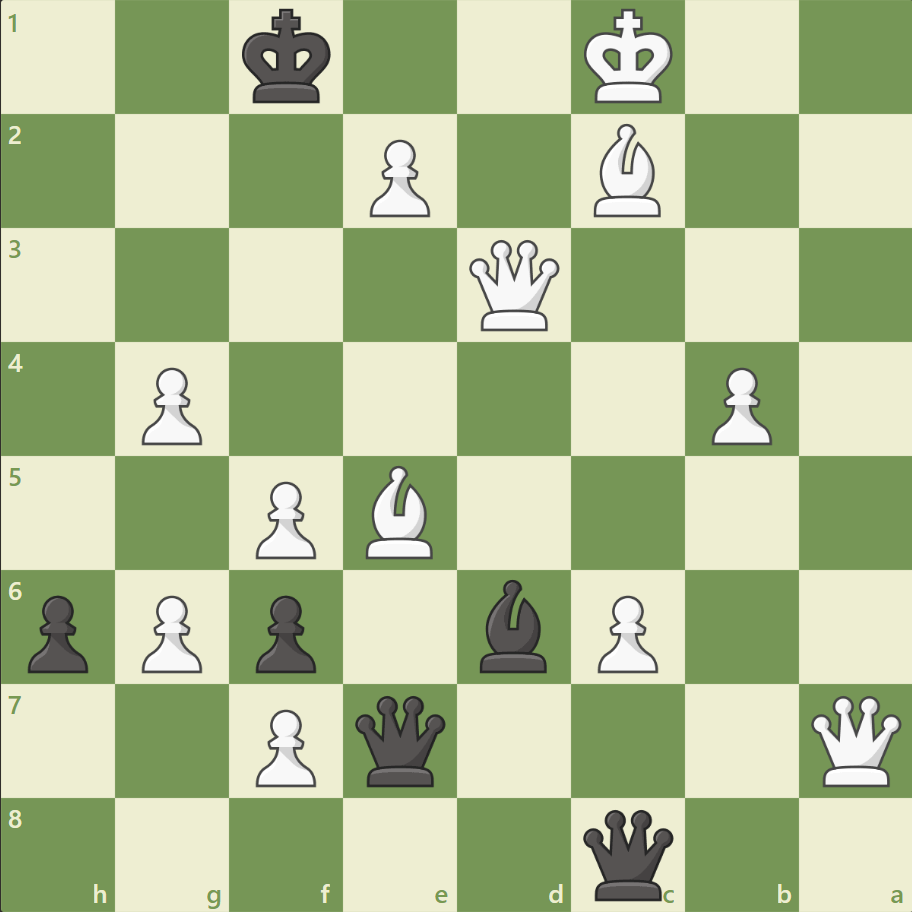B: (358, 460, 442, 563), (585, 120, 669, 222)
K: (579, 4, 679, 112)
P: (247, 700, 322, 791), (133, 586, 208, 677), (247, 473, 322, 564), (701, 359, 776, 450), (133, 359, 208, 450), (588, 586, 662, 677), (361, 132, 435, 223)
Q: (805, 690, 904, 789), (464, 236, 563, 335)
b: (471, 574, 555, 676)
k: (238, 4, 338, 112)
p: (247, 586, 322, 677), (20, 586, 95, 677)
q: (578, 804, 677, 903), (351, 690, 450, 789)
